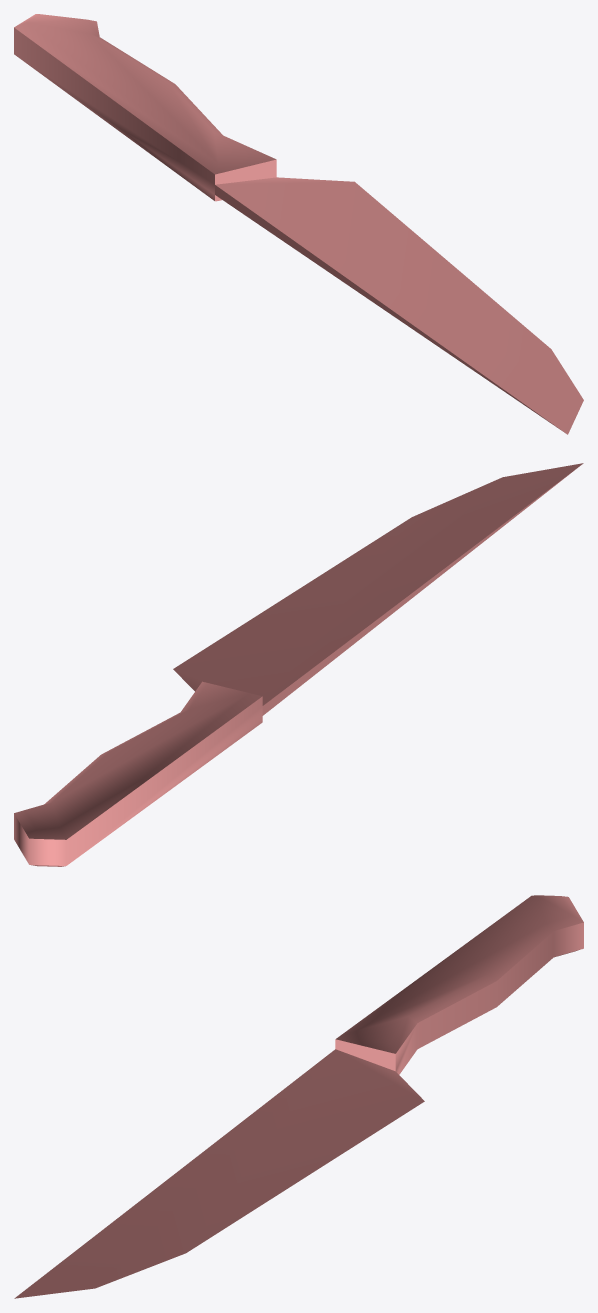
Rendered from TFYK_knife_big.FBX.
3 views of the same model, one above another, from view 1: azimuth 30°, elevation 25°; view 2: azimuth 150°, elevation 25°; view 3: azimuth 330°, elevation 25° (orthographic). The views are drawn at different scales.
Visible parts, largest first — view 1: TFYK_knife_big; view 2: TFYK_knife_big; view 3: TFYK_knife_big.
Boxes of the visible parts, bbox=[...] form: TFYK_knife_big: bbox=[14, 14, 583, 434]; TFYK_knife_big: bbox=[14, 463, 583, 866]; TFYK_knife_big: bbox=[14, 895, 583, 1298].
Bounding box in the file's own units: 0.0298 × 0.0091 × 0.2454.
